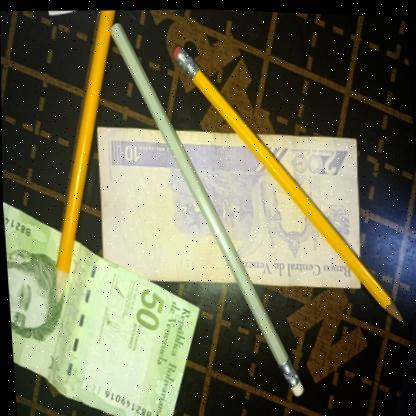fifty-front-vef: (2, 190, 207, 416)
ten-back-vef: (93, 111, 365, 299)
